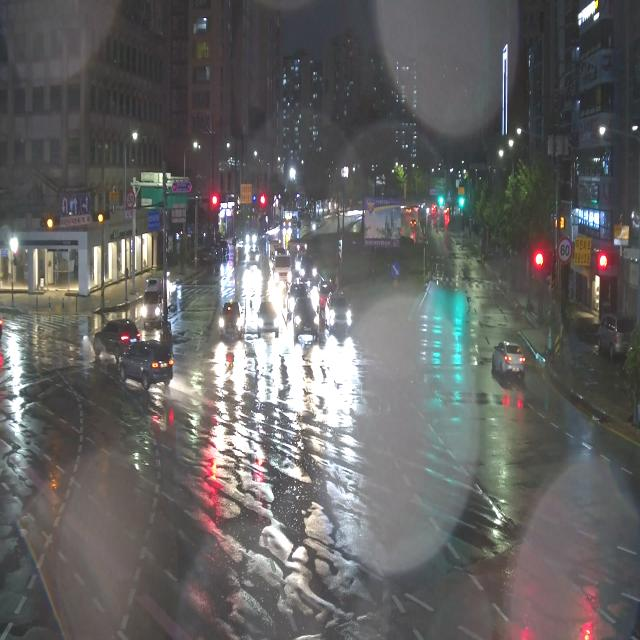Car: (114, 338, 174, 391), (586, 305, 632, 362), (90, 316, 141, 366), (486, 338, 531, 386), (289, 291, 322, 356), (252, 293, 286, 347), (216, 290, 247, 346), (322, 290, 354, 336), (243, 240, 263, 274)
Truck: (138, 259, 176, 333), (266, 248, 293, 289)
